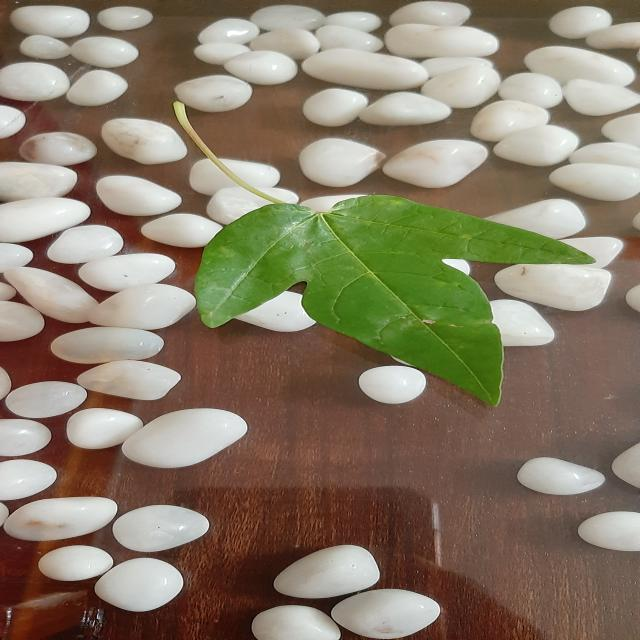papaya: (195, 195, 591, 405)
